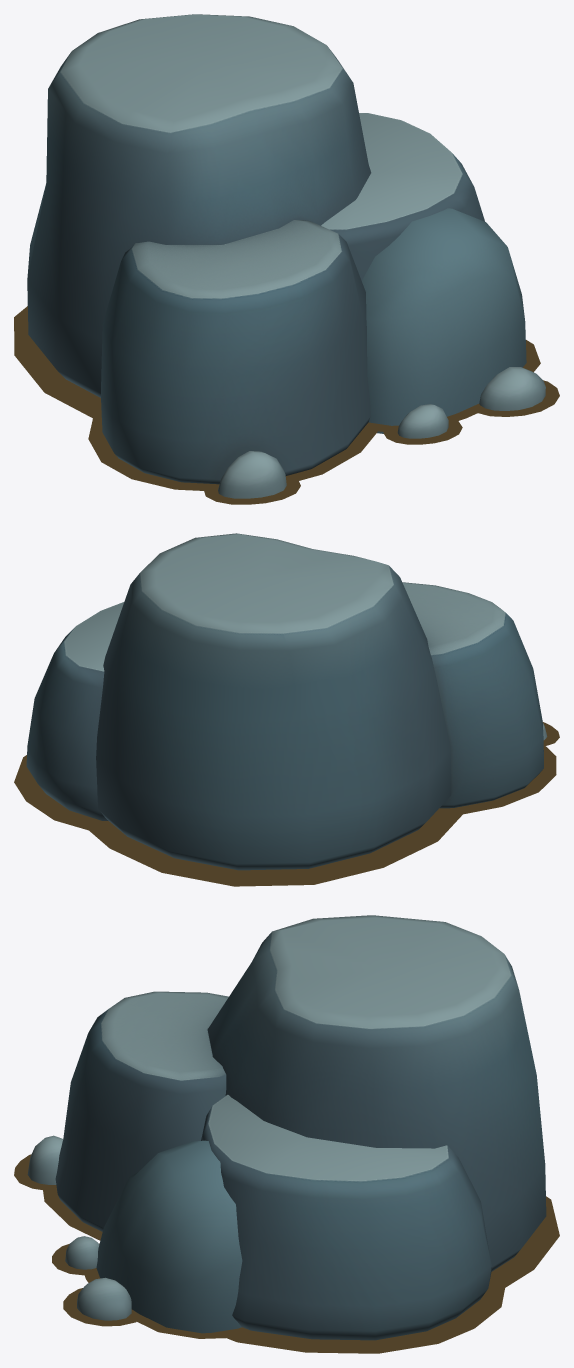
The model's file is Mu_Stone02.fbx.
3 views of the same model, one above another, from view 1: azimuth 30°, elevation 25°; view 2: azimuth 150°, elevation 25°; view 3: azimuth 270°, elevation 25° (orthographic). The views are drawn at different scales.
Parts seen in each view (by area): view 1: Mu_Stone02_a, Mu_Stone02_shadow; view 2: Mu_Stone02_a, Mu_Stone02_shadow; view 3: Mu_Stone02_a, Mu_Stone02_shadow.
Part boxes in pixels (x1,y1,x2,y2): Mu_Stone02_a: [27, 14, 545, 498]; Mu_Stone02_shadow: [14, 306, 559, 504]; Mu_Stone02_a: [26, 533, 547, 870]; Mu_Stone02_shadow: [14, 722, 559, 886]; Mu_Stone02_a: [27, 915, 546, 1340]; Mu_Stone02_shadow: [14, 1154, 559, 1353].
Size of the model in its own units: 186 by 103 by 191.
Materials: 2 (1 with a texture image).
